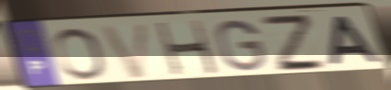A: (327, 14, 385, 67)
G: (214, 18, 268, 73)
H: (153, 18, 222, 78)
O: (51, 26, 109, 81)
V: (97, 20, 153, 81)
Z: (257, 14, 330, 74)
